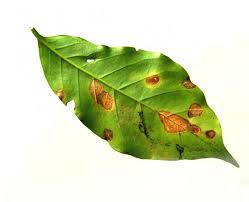ojo de gallo: (79, 62, 218, 145)
